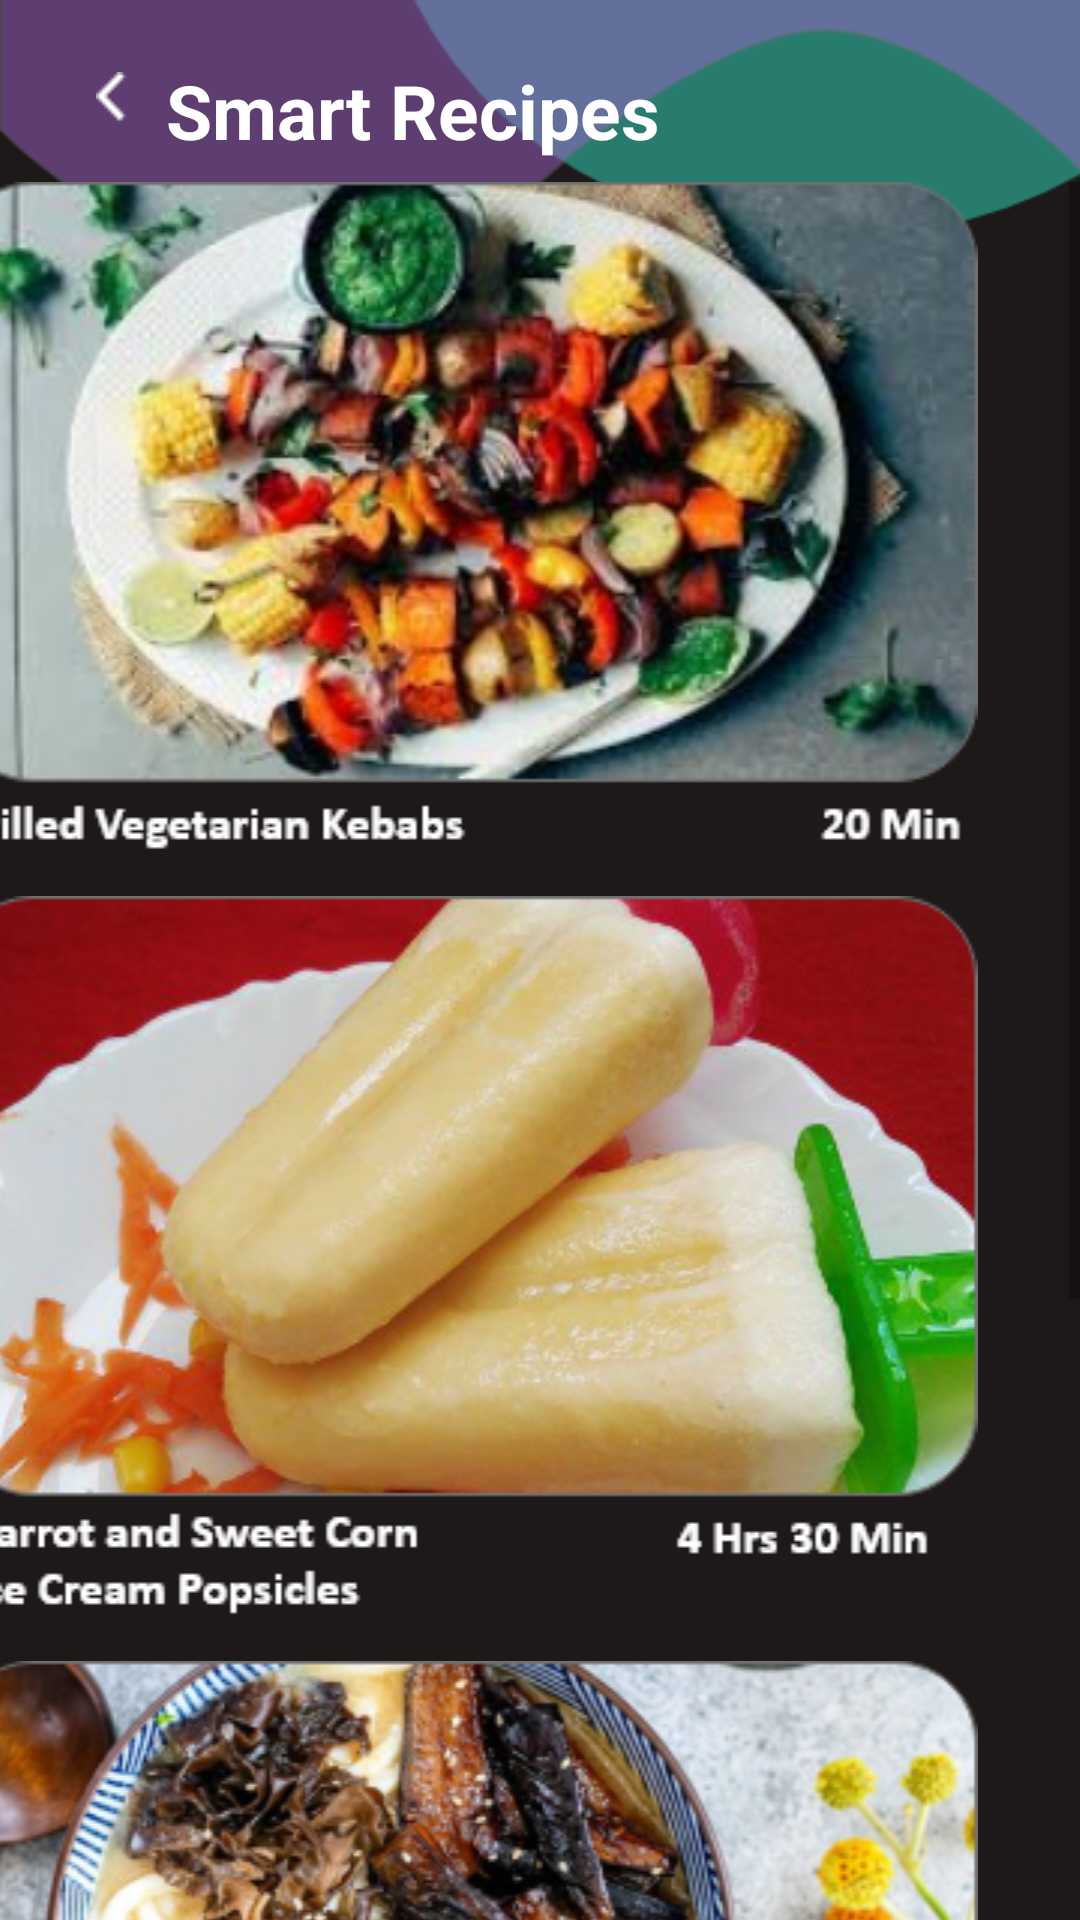

Icon bounding boxes for this 1080w x 1920h phone screenshot, format detection(x1, y1, x2, y2):
back arrow: detection(96, 72, 126, 121)
